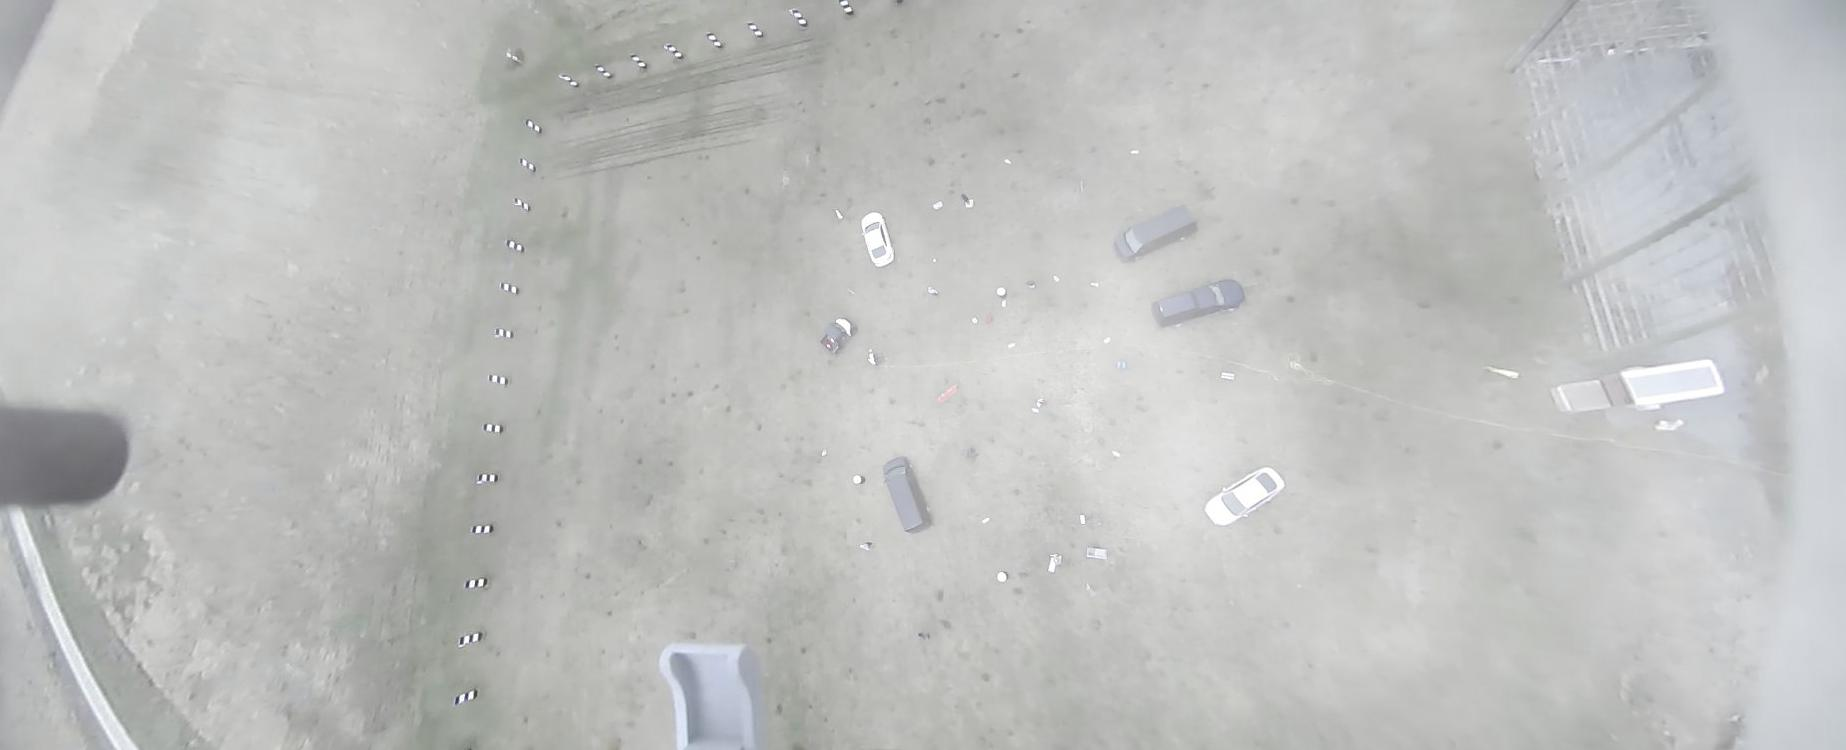vehicle: (1113, 205, 1198, 264), (1204, 467, 1286, 526), (1153, 279, 1246, 328), (883, 456, 932, 535), (861, 212, 895, 268), (821, 318, 859, 356)
